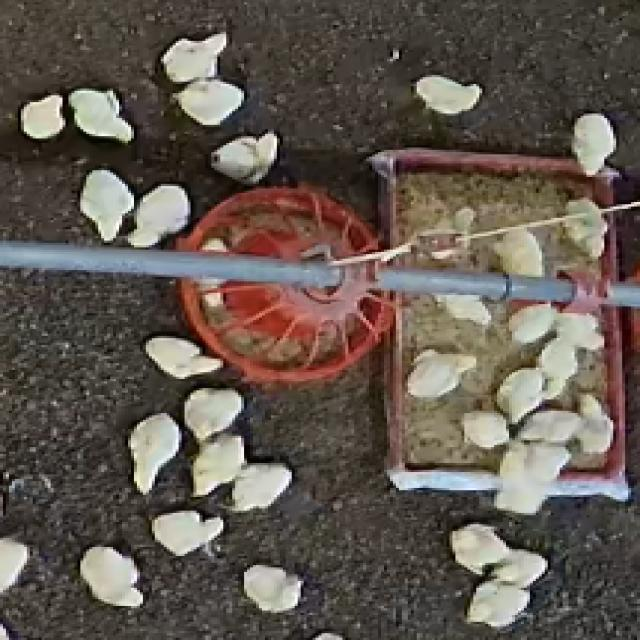broiler: (494, 443, 569, 513), (128, 413, 179, 492), (128, 184, 188, 245), (80, 170, 131, 241), (80, 547, 137, 606), (191, 433, 244, 495), (68, 89, 131, 141), (405, 350, 473, 397), (143, 336, 220, 377), (173, 79, 241, 125), (161, 32, 223, 82), (152, 511, 220, 554), (185, 388, 241, 440), (449, 524, 509, 572), (467, 579, 527, 626), (232, 463, 289, 511), (244, 565, 301, 610), (572, 113, 613, 175), (414, 75, 479, 113), (497, 368, 542, 422), (563, 197, 604, 256), (536, 338, 575, 397), (494, 229, 542, 275), (575, 395, 610, 454), (491, 549, 545, 586), (518, 409, 580, 440), (509, 304, 557, 343), (21, 95, 63, 138), (557, 313, 601, 350), (461, 411, 506, 447), (435, 295, 488, 325)
pipe: (0, 241, 336, 284), (378, 268, 577, 300), (610, 284, 637, 306)
rice: (179, 266, 393, 384), (173, 184, 378, 259)
